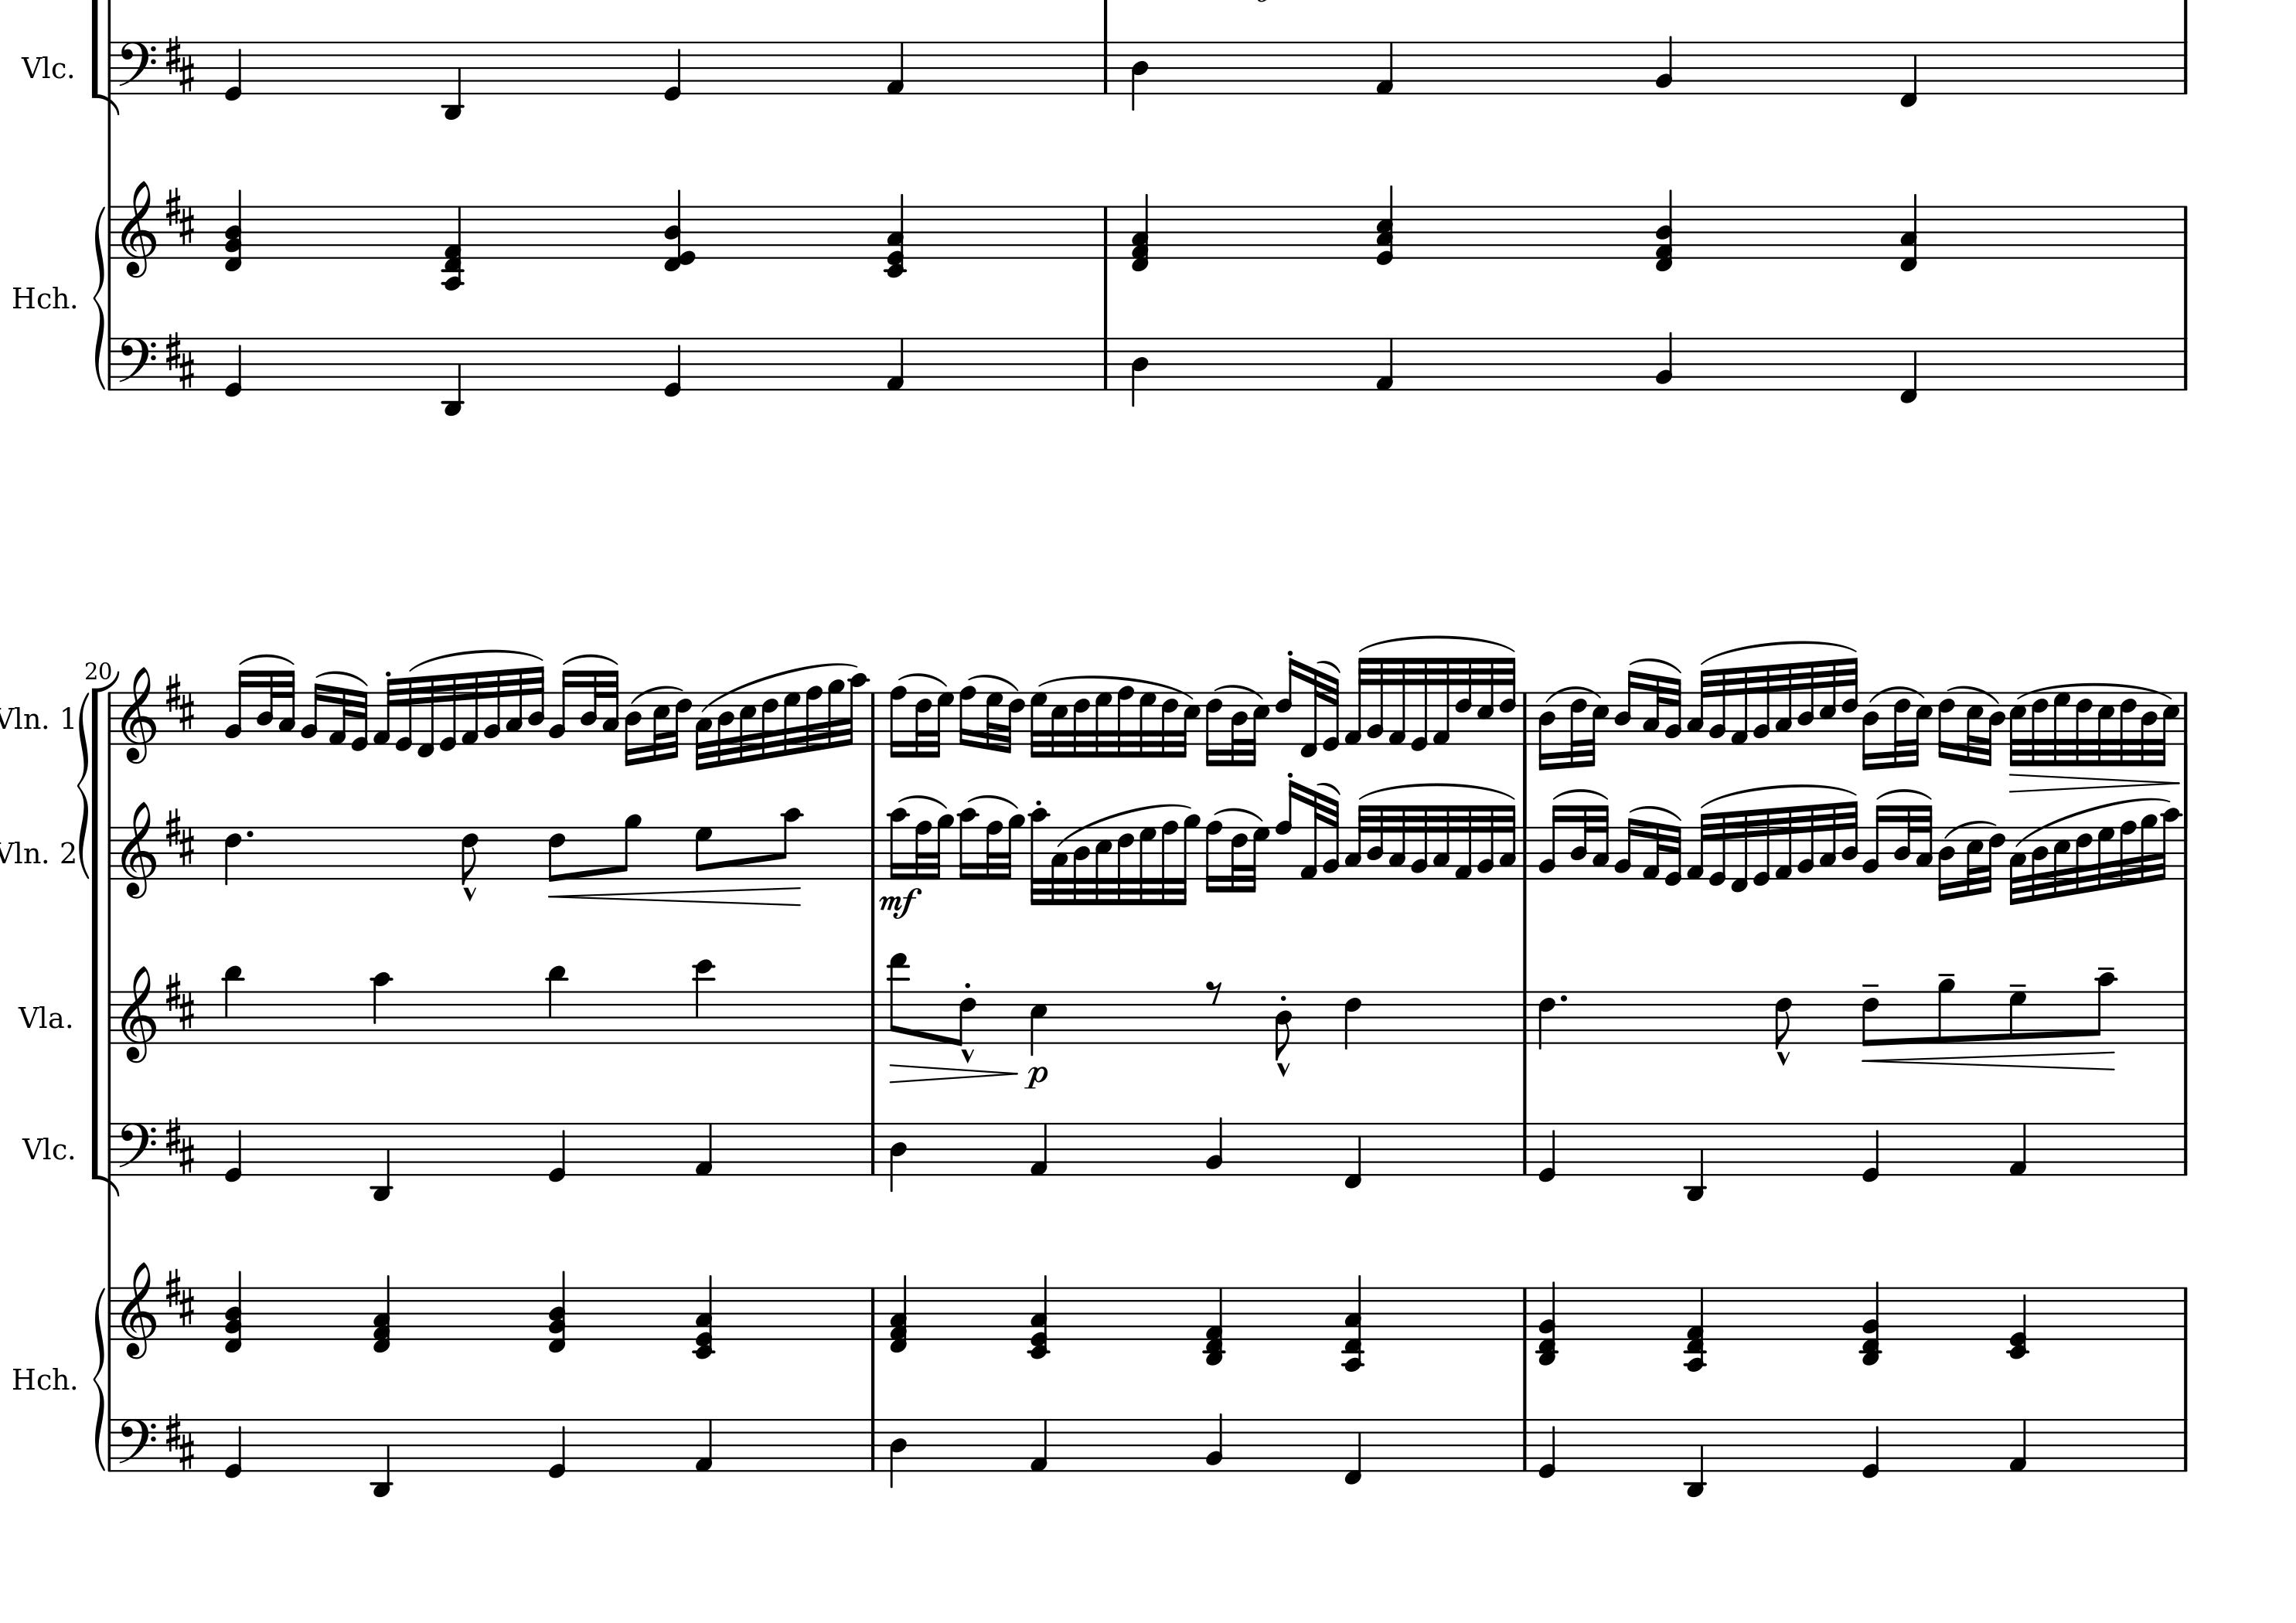0: (98, 659, 112, 680)
16_1: (1298, 787, 1321, 880)
16_10: (887, 806, 910, 882), (957, 806, 980, 880)
16_2: (1537, 803, 1563, 882), (548, 666, 573, 745), (223, 667, 248, 745), (1862, 803, 1887, 880), (1613, 815, 1637, 880), (300, 680, 323, 745)
16_4: (1537, 689, 1556, 771), (1862, 690, 1881, 773), (624, 690, 643, 766), (1938, 827, 1955, 901)
16_6: (1274, 657, 1298, 745), (1497, 657, 1516, 747), (1205, 690, 1224, 766), (1938, 690, 1957, 761)
16_8: (1274, 780, 1298, 880), (1203, 819, 1224, 892), (889, 683, 908, 757), (957, 683, 977, 748)
2: (83, 659, 97, 680)
32_-1: (1298, 664, 1321, 757), (1729, 808, 1750, 892), (416, 674, 436, 759)
32_0: (1411, 657, 1428, 752), (1751, 806, 1771, 887), (439, 673, 458, 752), (395, 676, 413, 754), (348, 689, 369, 752), (1709, 811, 1727, 885), (1664, 824, 1681, 887)
32_1: (1342, 655, 1365, 745), (1386, 657, 1405, 747), (1432, 657, 1451, 745), (1319, 674, 1340, 752), (1729, 666, 1748, 747), (460, 669, 480, 747), (1453, 803, 1472, 880), (1774, 804, 1794, 880), (1686, 811, 1708, 880), (374, 676, 393, 747), (1641, 820, 1662, 880), (329, 685, 348, 747)
32_10: (845, 671, 870, 747), (2157, 806, 2180, 880)
32_2: (1365, 657, 1384, 747), (1321, 792, 1340, 880), (481, 667, 502, 745), (1751, 664, 1771, 745), (1708, 666, 1727, 745), (1409, 803, 1428, 880), (1476, 803, 1495, 880), (1795, 803, 1815, 880), (1664, 674, 1683, 745)
32_3: (1686, 667, 1708, 747), (1774, 660, 1794, 745), (1344, 803, 1365, 880), (1051, 824, 1070, 906), (694, 689, 713, 769), (2008, 824, 2027, 905), (504, 666, 523, 745), (1818, 801, 1838, 880), (1641, 673, 1662, 745), (1432, 803, 1451, 880), (278, 667, 295, 747), (601, 667, 618, 747), (1388, 803, 1405, 880), (1498, 803, 1516, 880), (1592, 804, 1609, 880), (1915, 804, 1932, 880)
32_4: (1613, 667, 1639, 745), (1982, 689, 2006, 766), (1892, 803, 1915, 880), (1795, 659, 1815, 745), (255, 667, 276, 745), (580, 667, 601, 745), (1569, 803, 1590, 880), (1072, 824, 1091, 906), (1230, 689, 1249, 766), (527, 664, 545, 745), (1841, 799, 1859, 880), (717, 689, 734, 766), (2140, 689, 2157, 766), (1367, 803, 1384, 880), (2031, 824, 2048, 901)
32_5: (1247, 689, 1272, 766), (1910, 690, 1934, 766), (2157, 689, 2180, 766), (1476, 657, 1495, 747), (1818, 657, 1838, 745), (1588, 689, 1609, 768), (1179, 689, 1202, 759), (1094, 822, 1114, 905), (2008, 690, 2027, 766), (738, 689, 757, 762), (2096, 692, 2115, 766), (652, 689, 671, 761), (2052, 824, 2071, 896), (1966, 689, 1983, 764), (1051, 689, 1070, 757), (1967, 826, 1983, 896)
32_6: (1839, 657, 1859, 745), (1983, 826, 2006, 894), (1116, 824, 1135, 905), (1569, 689, 1588, 768), (671, 689, 692, 761), (2119, 689, 2138, 766), (1003, 689, 1026, 754), (1159, 689, 1180, 759), (1456, 657, 1472, 747), (761, 689, 780, 759), (1892, 690, 1910, 768), (2075, 824, 2094, 894), (2031, 690, 2048, 766), (2075, 690, 2092, 766), (913, 689, 933, 757), (1230, 824, 1249, 892), (1072, 689, 1091, 755)
32_7: (931, 689, 954, 757), (1247, 824, 1270, 892), (2052, 689, 2071, 766), (1138, 824, 1156, 906), (1028, 689, 1049, 757), (984, 689, 1005, 752), (1094, 689, 1114, 757), (1138, 689, 1158, 757), (782, 689, 801, 755), (2096, 826, 2115, 891)
32_8: (1161, 819, 1179, 906), (1116, 683, 1135, 757), (805, 685, 822, 754), (913, 819, 933, 880), (984, 819, 1003, 880), (2119, 819, 2136, 885)
32_9: (1179, 811, 1202, 905), (1028, 806, 1049, 906), (931, 811, 956, 880), (1005, 813, 1026, 885), (826, 676, 845, 748), (2140, 811, 2157, 882)
4_-1: (1342, 1119, 1363, 1189), (1899, 39, 1920, 107), (1899, 335, 1920, 404), (1342, 1416, 1363, 1484)
4_-1_3: (1899, 191, 1920, 272)
4_-2_0: (2004, 1288, 2031, 1361)
4_-3: (441, 334, 464, 416), (371, 1119, 393, 1201), (1683, 1119, 1706, 1201), (1683, 1416, 1706, 1498), (371, 1416, 392, 1498), (443, 39, 464, 119)
4_0: (223, 39, 244, 102), (223, 335, 244, 399), (1537, 1121, 1558, 1182), (223, 1417, 244, 1479), (1860, 1417, 1881, 1479), (1537, 1417, 1558, 1477), (664, 39, 683, 102), (225, 1121, 244, 1184), (664, 335, 683, 397), (548, 1121, 567, 1182), (1862, 1121, 1881, 1182), (548, 1417, 567, 1479)
4_1: (885, 335, 906, 392), (1374, 335, 1395, 392), (694, 1121, 715, 1177), (2008, 1121, 2029, 1177), (694, 1417, 715, 1474), (2008, 1417, 2029, 1474), (1375, 39, 1395, 95), (1029, 1121, 1049, 1177), (885, 40, 905, 95), (1029, 1417, 1049, 1472)
4_10: (371, 970, 392, 1043)
4_11: (545, 963, 567, 1045), (221, 963, 242, 1043)
4_12: (692, 957, 717, 1045)
4_2: (1655, 328, 1676, 392), (1205, 1410, 1226, 1472), (1657, 32, 1676, 97), (1207, 1114, 1226, 1177)
4_4: (1130, 334, 1149, 408), (1130, 39, 1149, 111), (889, 1416, 908, 1488), (889, 1121, 908, 1191)
4_5: (1029, 989, 1049, 1056)
4_6: (1342, 989, 1363, 1050), (223, 824, 242, 887), (1537, 989, 1556, 1050)
4_th: (1340, 1273, 1365, 1372), (441, 204, 466, 292), (692, 1273, 717, 1360), (1026, 1273, 1051, 1360), (1859, 1280, 1883, 1367), (1683, 1286, 1708, 1372), (1202, 1286, 1226, 1367), (1374, 183, 1397, 267), (884, 193, 906, 278), (887, 1273, 910, 1353), (1653, 188, 1674, 272), (546, 1268, 567, 1353), (371, 1275, 393, 1353), (1537, 1282, 1558, 1365), (1130, 193, 1151, 272), (225, 1268, 244, 1353), (225, 188, 244, 271)
8_10: (2089, 970, 2117, 1043), (776, 804, 803, 880)
8_13: (887, 952, 910, 1045)
8_4: (1274, 989, 1293, 1059)
8_6: (952, 989, 977, 1047), (1860, 989, 1880, 1049), (546, 824, 566, 882), (460, 824, 478, 884), (1774, 989, 1792, 1049)
8_7: (2006, 989, 2029, 1043), (694, 824, 713, 878)
8_9: (617, 811, 641, 880), (1936, 977, 1957, 1045)
Brace: (76, 689, 90, 876), (91, 204, 105, 390), (91, 1286, 105, 1472)
Bracke: (86, 685, 118, 1191)
Crescendo_hairpin: (552, 885, 801, 910), (1867, 1050, 2117, 1071)
D_S: (163, 32, 195, 93), (163, 328, 195, 388), (163, 1410, 195, 1470), (163, 186, 195, 244), (163, 971, 195, 1029), (163, 1266, 195, 1324), (165, 671, 195, 731), (163, 804, 193, 864), (165, 1114, 195, 1173)
Diminuendo_hairpin: (889, 1063, 1017, 1084)
Fclef: (118, 39, 156, 95), (118, 335, 156, 392), (118, 1121, 156, 1177), (118, 1417, 156, 1472)
Gclef: (119, 664, 156, 766), (119, 179, 156, 279), (119, 964, 156, 1064), (119, 801, 156, 899), (119, 1261, 156, 1360)
Hch: (9, 283, 70, 313), (9, 1363, 69, 1393)
Rests8: (1203, 978, 1224, 1005)
Single_barline: (1096, 40, 1114, 93), (1516, 1417, 1534, 1470), (1096, 337, 1114, 388), (2177, 1122, 2192, 1175), (864, 1417, 880, 1470), (2177, 1417, 2192, 1470), (2177, 42, 2192, 93), (2177, 206, 2192, 256), (2177, 337, 2192, 388), (1516, 991, 1532, 1042), (864, 1122, 880, 1173), (1516, 1122, 1532, 1173), (104, 40, 118, 93), (1098, 206, 1112, 258), (866, 692, 880, 745), (866, 826, 880, 878), (1518, 826, 1532, 878), (2178, 826, 2192, 878), (866, 991, 880, 1043), (2178, 991, 2192, 1042), (2178, 1288, 2192, 1338), (866, 1288, 880, 1338), (1518, 1288, 1532, 1337), (105, 206, 118, 258), (1520, 692, 1532, 745), (2180, 692, 2192, 745), (104, 826, 116, 878), (104, 1122, 116, 1175), (105, 1417, 118, 1470), (105, 337, 118, 388), (104, 692, 116, 743), (104, 991, 116, 1042), (105, 1286, 116, 1338)
Slur: (703, 662, 857, 711), (2015, 796, 2170, 843), (1056, 801, 1193, 843), (1700, 782, 1857, 806), (1702, 639, 1857, 662), (1038, 674, 1191, 697), (408, 648, 548, 669), (1358, 783, 1511, 801), (1358, 634, 1518, 650), (1946, 683, 2001, 703), (1943, 819, 1996, 838), (968, 671, 1019, 690), (631, 683, 682, 703), (1628, 655, 1683, 673), (1544, 683, 1599, 701), (1628, 803, 1683, 820), (1866, 685, 1925, 701), (314, 669, 369, 685), (237, 652, 297, 666), (1551, 787, 1609, 801), (1212, 683, 1263, 699), (968, 792, 1019, 808), (898, 792, 949, 808), (562, 652, 618, 666), (898, 671, 947, 687), (1874, 787, 1934, 799), (1214, 806, 1263, 820), (1316, 657, 1342, 673), (1316, 780, 1342, 794)
Vla: (18, 999, 65, 1035)
Vlc: (21, 1131, 69, 1166), (21, 51, 67, 84)
Vln: (0, 701, 42, 734), (0, 836, 40, 869)
dot: (1558, 991, 1569, 1003), (244, 827, 255, 838)
mf: (877, 885, 922, 919)
p: (1024, 1063, 1049, 1089)
